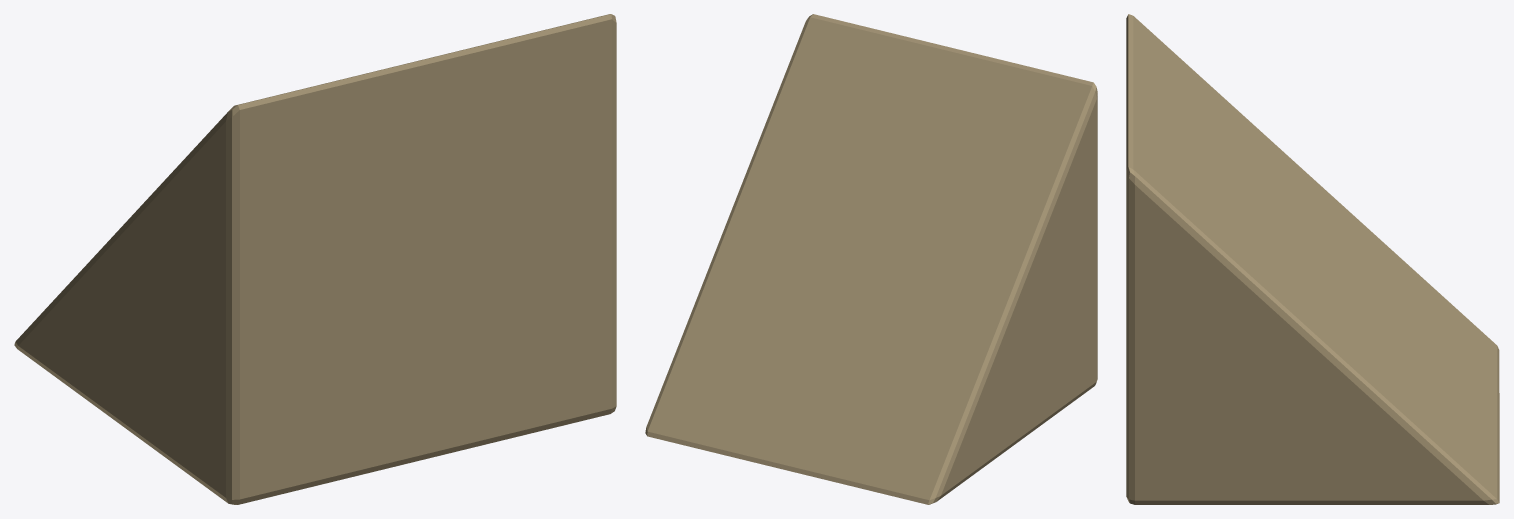
Rendered from build_ramp.glb.
3 views of the same model, side by side, from view 1: azimuth 30°, elevation 25°; view 2: azimuth 150°, elevation 25°; view 3: azimuth 270°, elevation 25° (orthographic). The views are drawn at different scales.
Parts seen in each view (by area): view 1: build_ramp_part_0; view 2: build_ramp_part_0; view 3: build_ramp_part_0.
Boxes of the visible parts, x1,y1,x2,y2 form: build_ramp_part_0: (14,14,616,504); build_ramp_part_0: (645,14,1097,504); build_ramp_part_0: (1126,14,1499,504).
Size of the model in its own units: 2 by 1.98 by 1.98.
